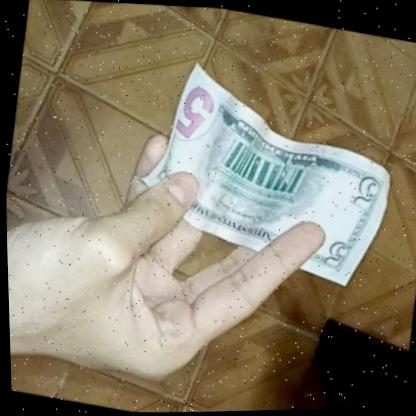five-back: (118, 44, 403, 298)
